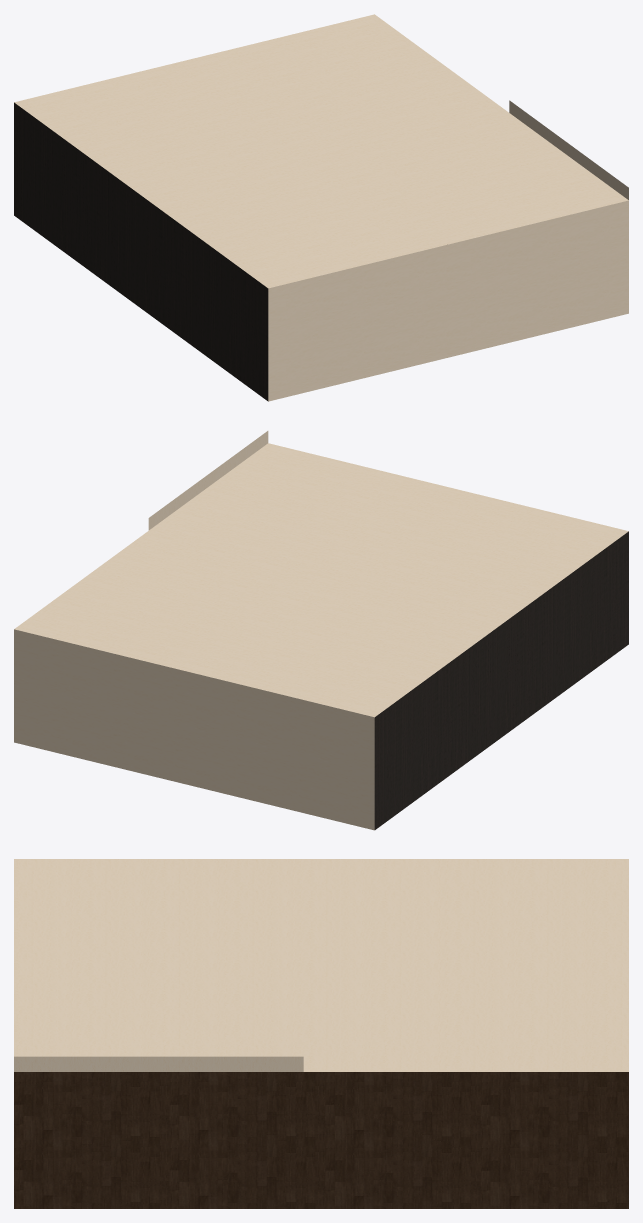
File: ReyesEu_Access01.fbx
3 views of the same model, one above another, from view 1: azimuth 30°, elevation 25°; view 2: azimuth 150°, elevation 25°; view 3: azimuth 270°, elevation 25° (orthographic). The views are drawn at different scales.
Visible parts, largest first — view 1: Acceso_01; view 2: Acceso_01; view 3: Acceso_01.
Boxes of the visible parts, <box> form: Acceso_01: <box>14,14,628,401</box>; Acceso_01: <box>14,431,628,830</box>; Acceso_01: <box>14,859,628,1208</box>.
Size of the model in its own units: 897 by 299 by 1095.
3 materials, 3 textured.
